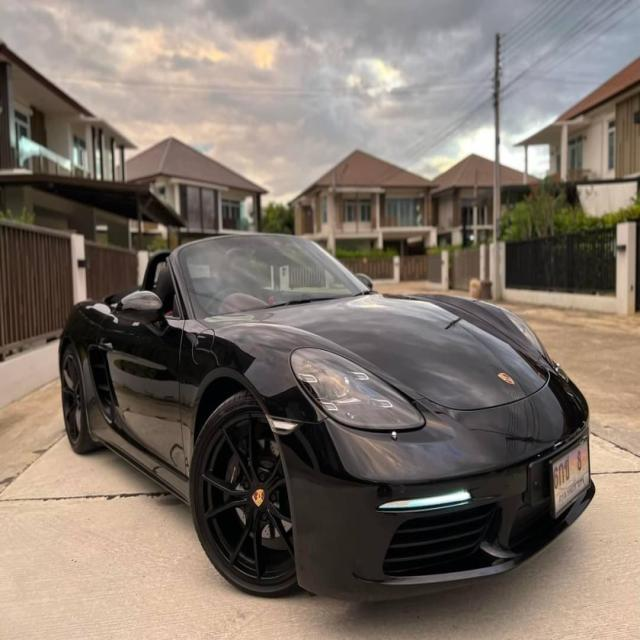license_plate: (539, 432, 606, 529)
